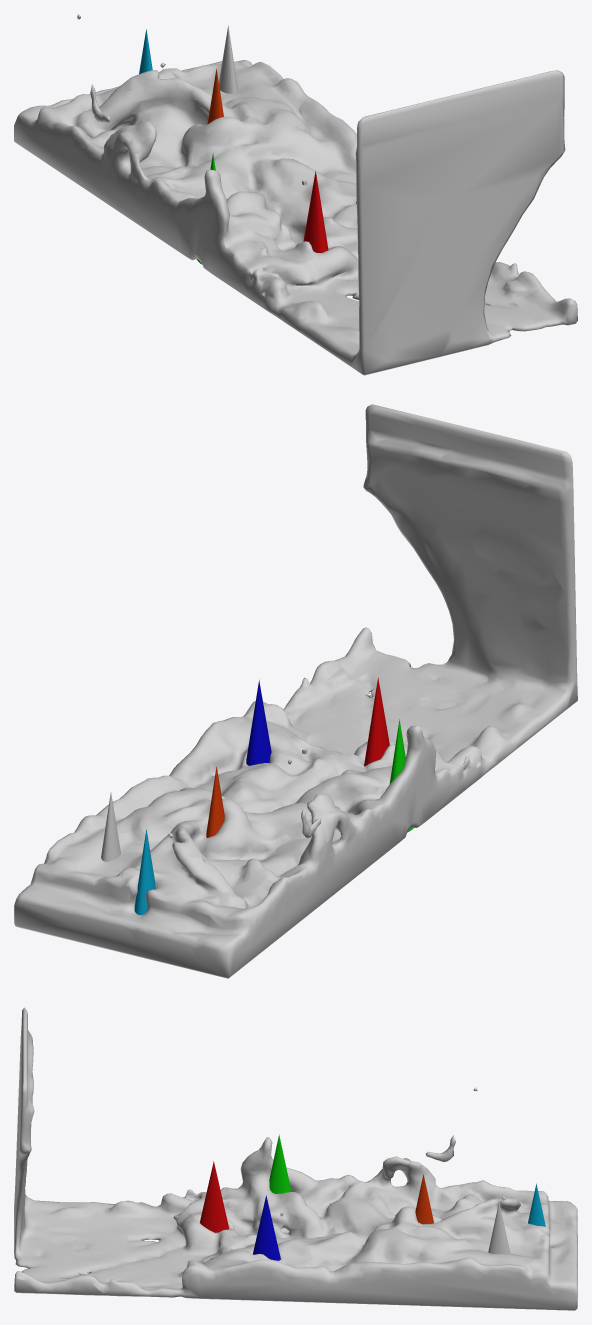
The picture shows the model from 3 angles, top to bottom: view 1: azimuth 30°, elevation 25°; view 2: azimuth 150°, elevation 25°; view 3: azimuth 270°, elevation 25°; orthographic projection. The views are drawn at different scales.
Parts seen in each view (by area): view 1: Liquid_Domain, 円錐.001, 円錐; view 2: Liquid_Domain, 円錐.002, 円錐.001, 円錐.005, 円錐, 円錐.004; view 3: Liquid_Domain, 円錐.001, 円錐.002, 円錐.003, 円錐, 円錐.004, 円錐.005.
Part boxes in pixels (<box>): Liquid_Domain: <box>14,14,577,375</box>; 円錐.001: <box>303,171,328,252</box>; 円錐: <box>219,26,237,93</box>; Liquid_Domain: <box>14,404,577,978</box>; 円錐.002: <box>246,680,271,765</box>; 円錐.001: <box>364,677,389,766</box>; 円錐.005: <box>134,829,155,914</box>; 円錐: <box>101,792,120,861</box>; 円錐.004: <box>206,766,224,837</box>; Liquid_Domain: <box>14,1007,577,1310</box>; 円錐.001: <box>200,1161,228,1232</box>; 円錐.002: <box>253,1195,280,1260</box>; 円錐.003: <box>269,1134,291,1193</box>; 円錐: <box>488,1201,510,1254</box>; 円錐.004: <box>415,1174,433,1224</box>; 円錐.005: <box>528,1183,549,1245</box>.
Bounding box in the file's own units: 129 × 158 × 361.
